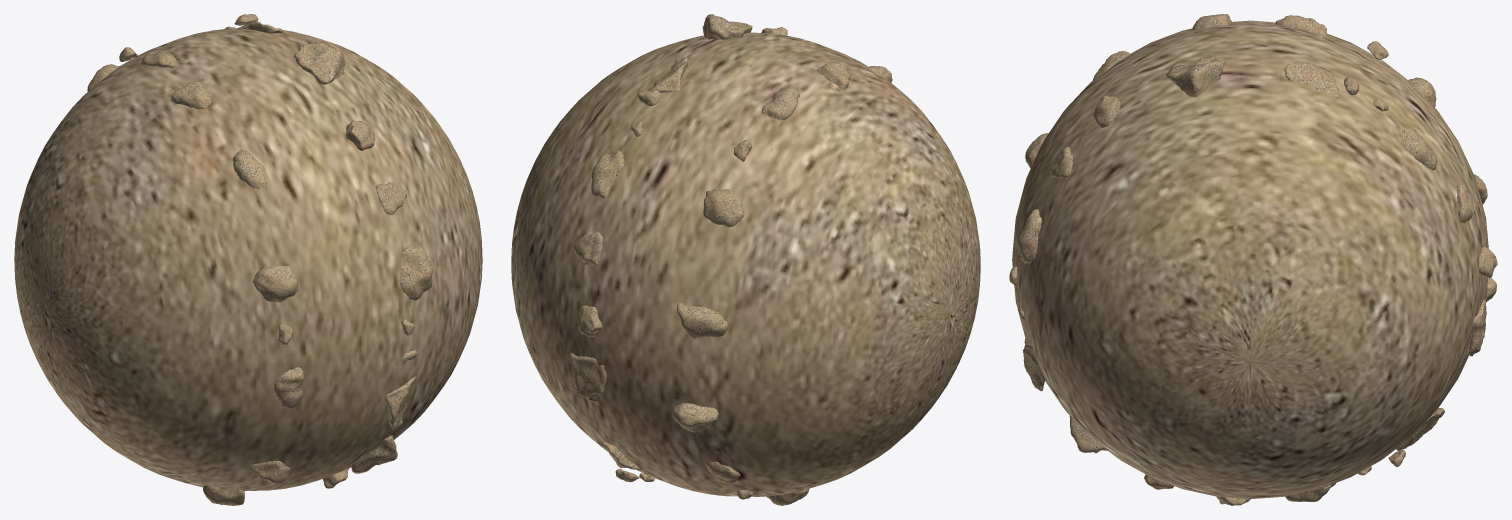
File: setFloor8.fbx
3 renders of one model, left to right at view 1: azimuth 30°, elevation 25°; view 2: azimuth 150°, elevation 25°; view 3: azimuth 270°, elevation 25°, orthographic. The views are drawn at different scales.
Visible parts, largest first — view 1: Ball01, moss_rock_012 (×2), moss_rock_002 (×2), moss_rock_010 (×2), moss_rock_007, moss_rock_001, moss_rock_003, moss_rock_008, moss_rock_009, moss_rock_013; view 2: Ball01, moss_rock_012 (×2), moss_rock_010 (×2), moss_rock_002, moss_rock_001, moss_rock_007, moss_rock_003, moss_rock_009, moss_rock_008, moss_rock_013; view 3: Ball01, moss_rock_012 (×3), moss_rock_007 (×2), moss_rock_008 (×2), moss_rock_013, moss_rock_003, moss_rock_009.
Boxes of the visible parts, x1,y1,x2,y2 form: Ball01: (14,28,482,490); moss_rock_012 (×2): (294,42,397,473); moss_rock_002 (×2): (203,149,267,505); moss_rock_010 (×2): (170,81,290,484); moss_rock_007: (399,245,433,300); moss_rock_001: (253,265,298,302); moss_rock_003: (274,367,303,408); moss_rock_008: (384,376,416,430); moss_rock_009: (375,182,406,214); moss_rock_013: (345,120,375,150); Ball01: (511,32,980,496); moss_rock_012 (×2): (568,14,752,402); moss_rock_010 (×2): (672,62,850,432); moss_rock_002: (677,303,727,338); moss_rock_001: (703,189,744,227); moss_rock_007: (591,151,624,198); moss_rock_003: (761,86,799,120); moss_rock_009: (573,231,603,265); moss_rock_008: (647,57,687,92); moss_rock_013: (576,305,602,337); Ball01: (1012,20,1488,498); moss_rock_012 (×3): (1069,55,1486,453); moss_rock_007 (×2): (1017,127,1437,263); moss_rock_008 (×2): (1023,63,1338,391); moss_rock_013: (1093,95,1120,127); moss_rock_003: (1275,15,1327,36); moss_rock_009: (1457,184,1476,222).
Size of the model in its own units: 999 by 1009 by 1006.
Materials: 1 (1 with a texture image).
